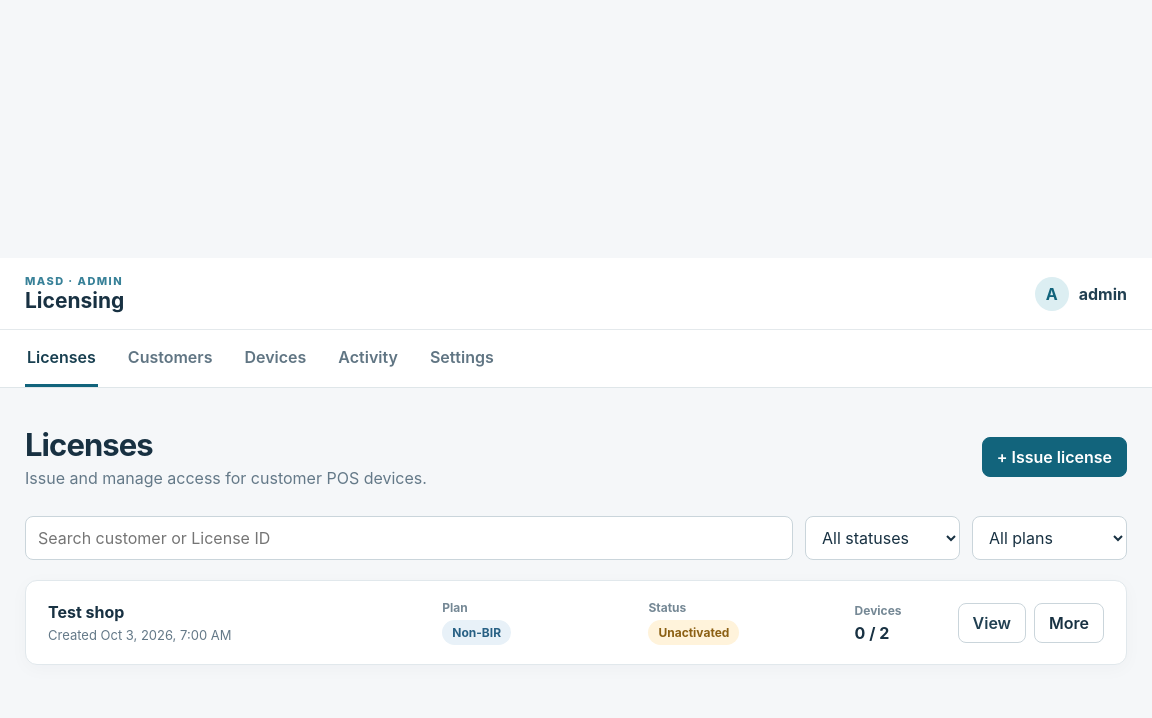
Test: existing licenses and customers load, navigation and independent empty states
The image size is (1152, 718).
(page scrolled)
Expected: the heading "Licenses" is shown, x1=25 y1=426 x2=153 y2=463
Expected: the text "0 / 2" is shown, x1=854 y1=622 x2=889 y2=642
What coordinates should you click on to do the following:
click the button "Customers"
I would click on:
 (170, 358)
Its box is x1=126 y1=330 x2=214 y2=387.
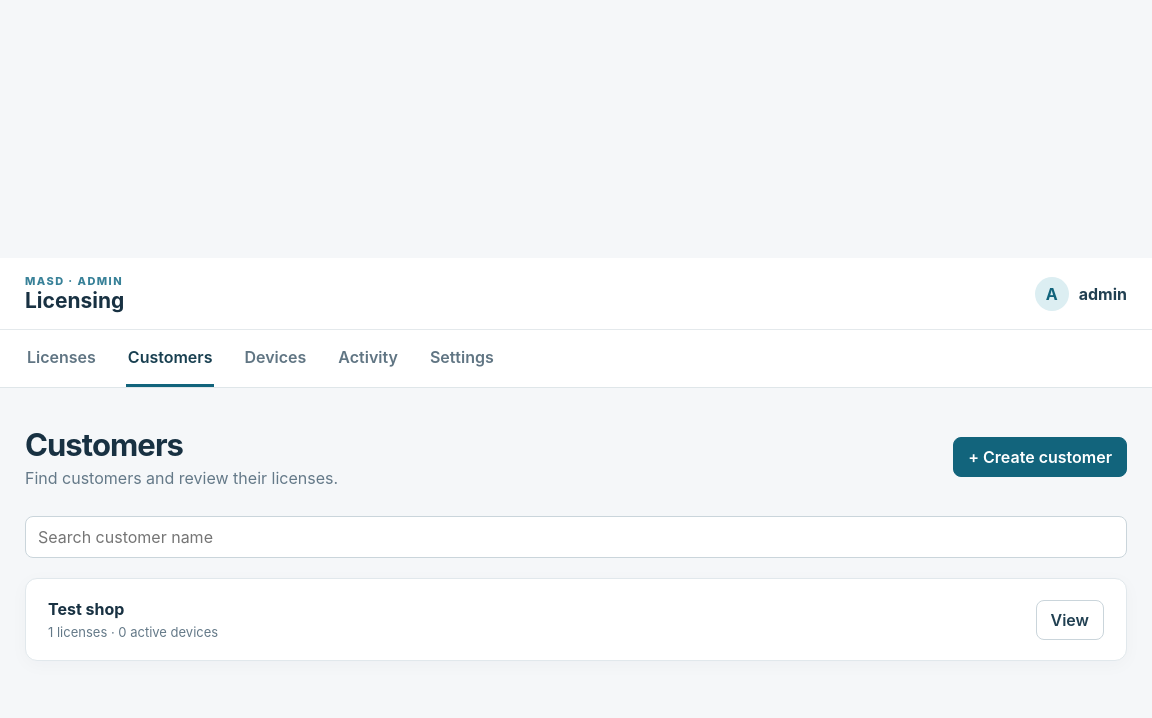
Result: the text "1 licenses · 0 active devices" is shown at x1=48 y1=624 x2=218 y2=640
What coordinates should you click on to do the following:
click the button "Devices"
I would click on:
 (275, 358)
Its box is x1=242 y1=330 x2=308 y2=387.
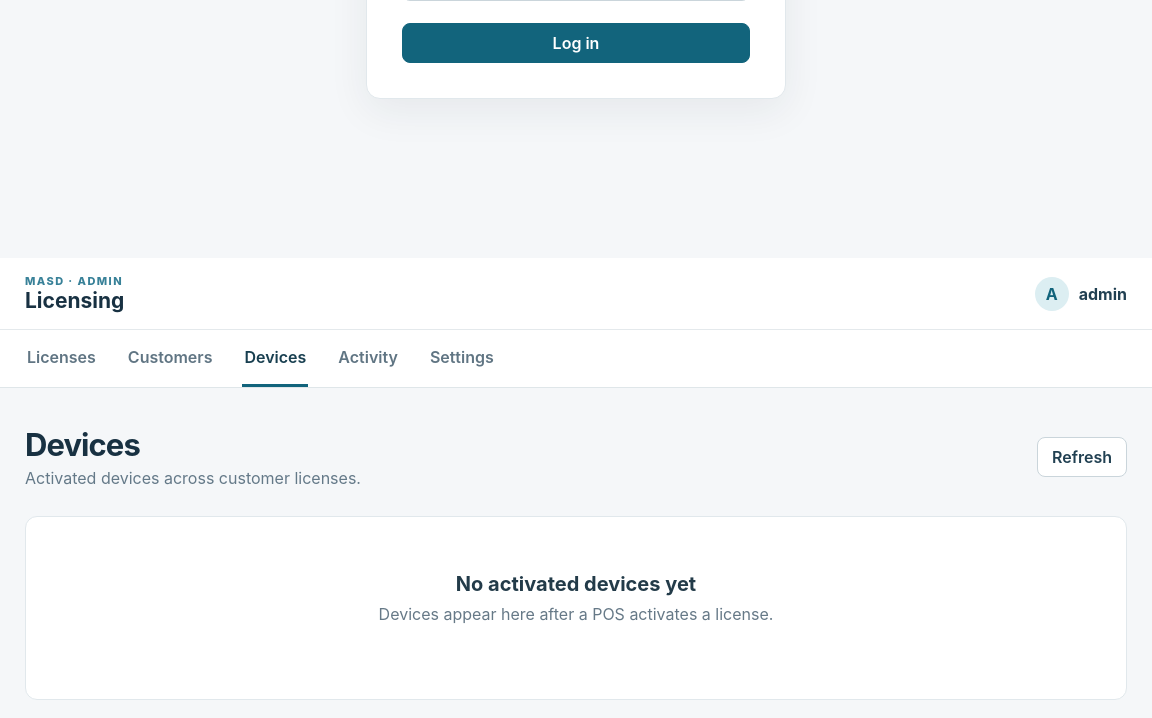
Result: the heading "No activated devices yet" is shown at x1=456 y1=572 x2=696 y2=596
What coordinates should you click on to do the following:
click the button "Activity"
I would click on:
 (368, 358)
Its box is x1=336 y1=330 x2=400 y2=387.
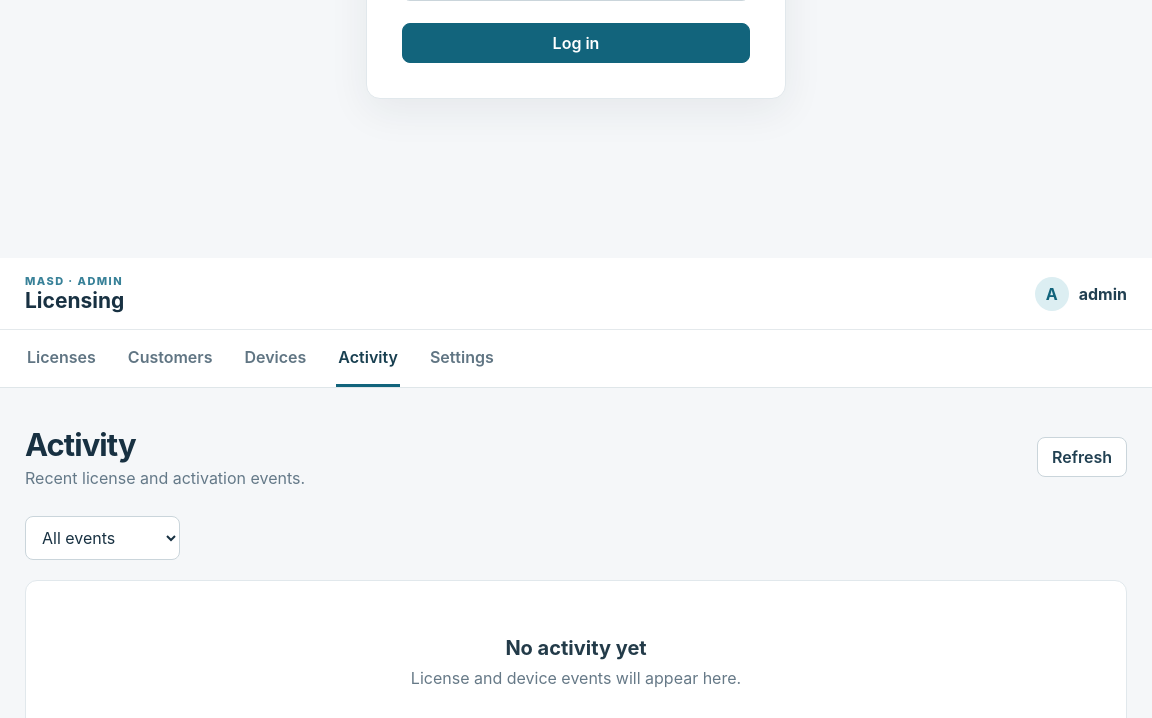
Result: the heading "No activity yet" is shown at x1=505 y1=636 x2=647 y2=660
